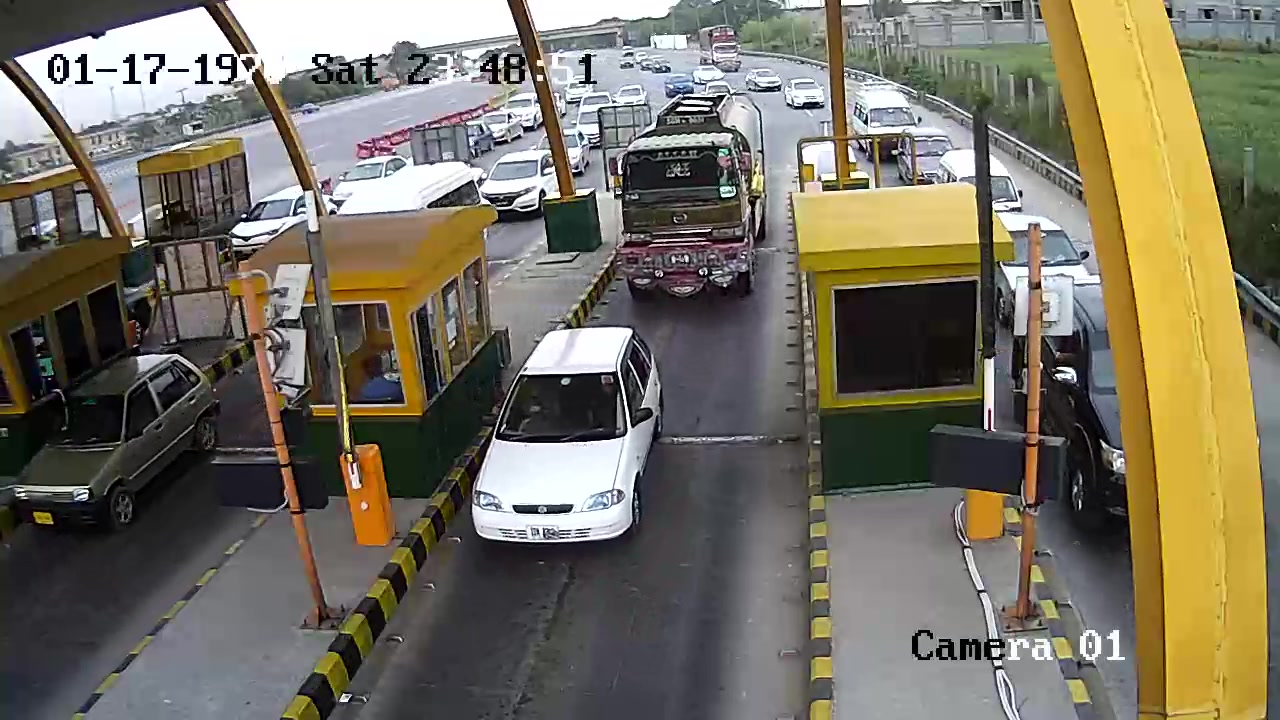F5: (610, 86, 765, 306)
